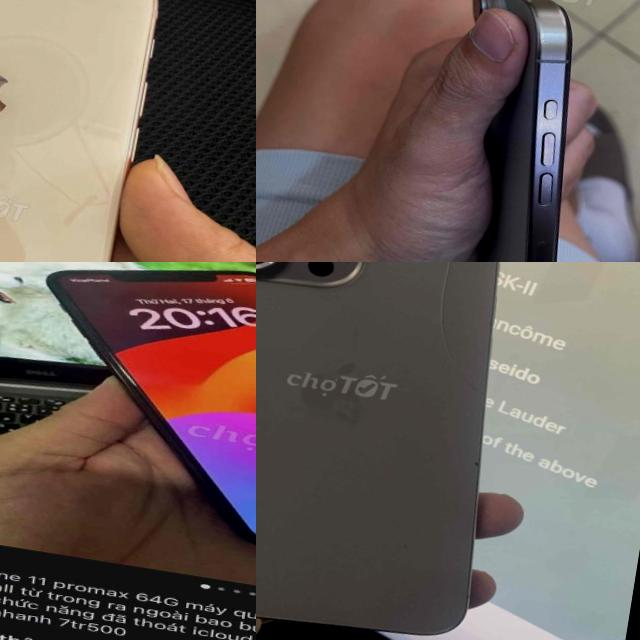gen_11: (7, 262, 256, 577)
gen_15: (256, 262, 535, 640), (403, 0, 640, 262)
gen_7_8: (0, 0, 175, 262)
physical_damage: (422, 338, 498, 408), (425, 294, 467, 342), (430, 262, 468, 300)
